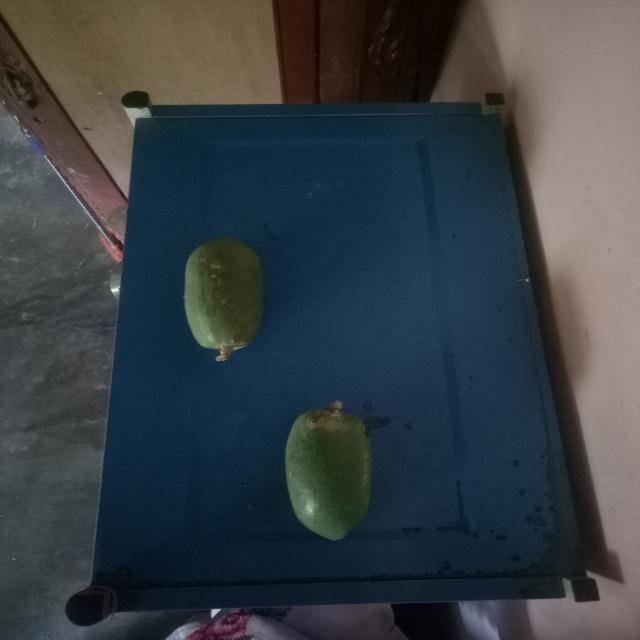Pepaya unrippen: (276, 397, 373, 546), (168, 228, 267, 363)
